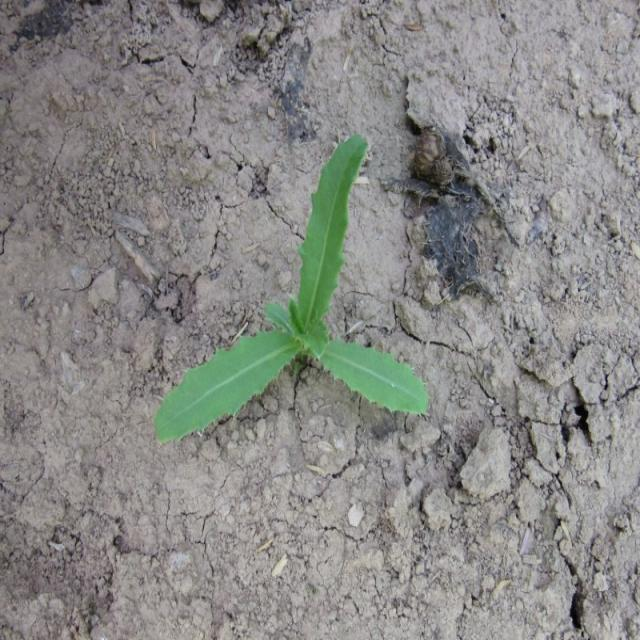field_thistle: (83, 109, 431, 463)
